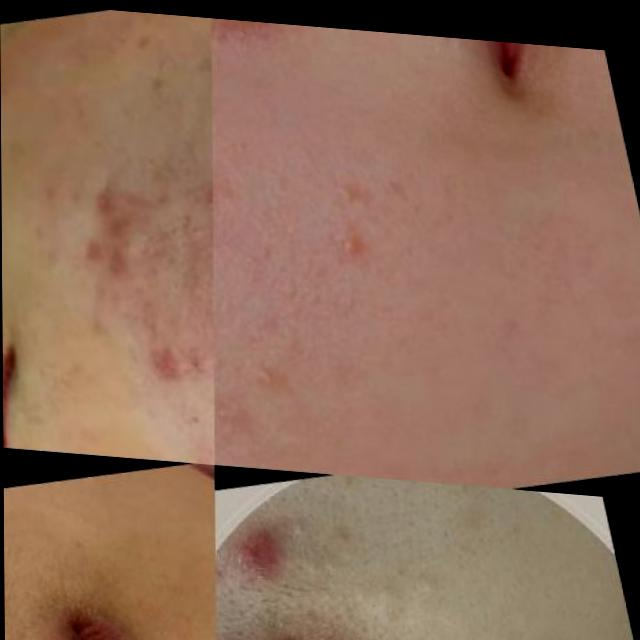8: (226, 512, 291, 590), (212, 167, 242, 232), (188, 168, 213, 239)
blackheads: (57, 165, 152, 311), (130, 316, 189, 394)
